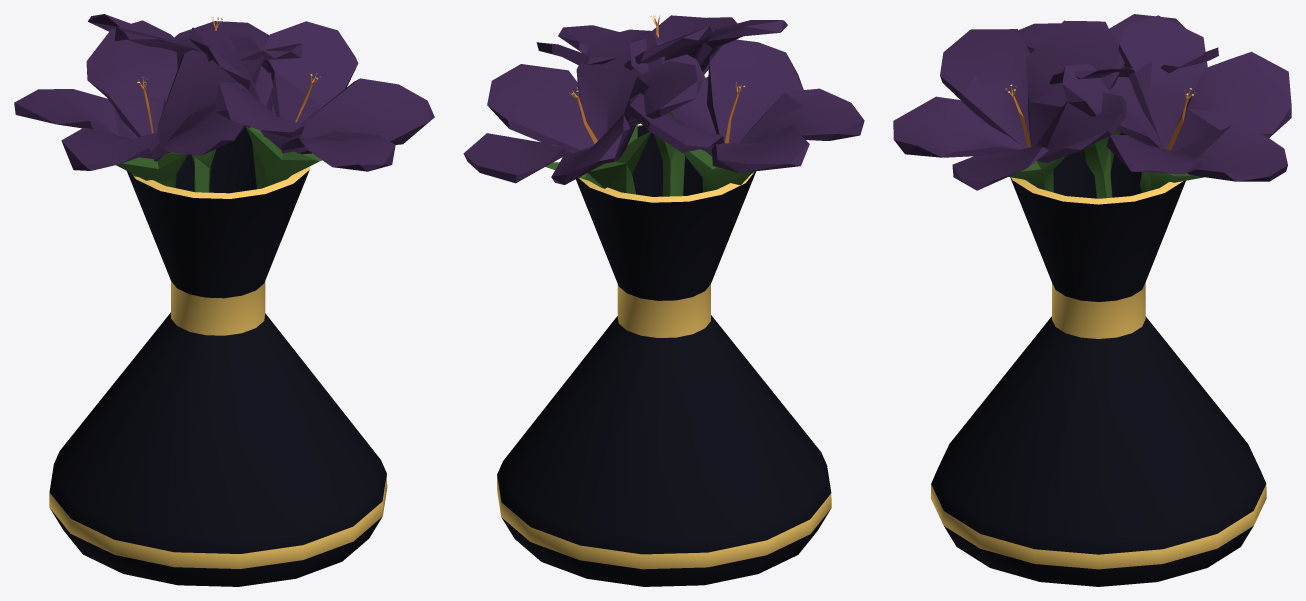
Rendered from HibiscoRoxo.fbx.
The picture shows the model from 3 angles, left to right: view 1: azimuth 30°, elevation 25°; view 2: azimuth 150°, elevation 25°; view 3: azimuth 270°, elevation 25°; orthographic projection.
Parts seen in each view (by area): view 1: HibiscoRoxo; view 2: HibiscoRoxo; view 3: HibiscoRoxo.
Boxes of the visible parts, left/top/right/bottom form: HibiscoRoxo: left=14, top=14, right=434, bottom=586; HibiscoRoxo: left=463, top=15, right=864, bottom=586; HibiscoRoxo: left=893, top=14, right=1291, bottom=586.
Size of the model in its own units: 0.2685 by 0.3895 by 0.2874.
